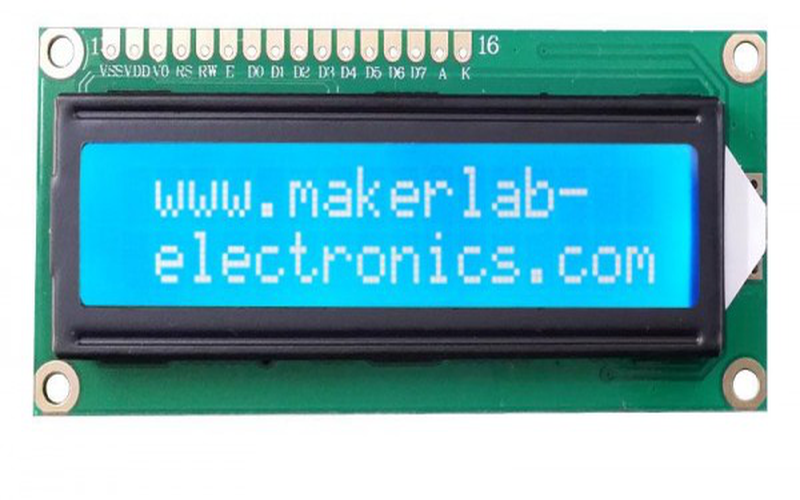LCD: (47, 97, 719, 339)
